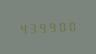four: (17, 21, 26, 35)
nine: (38, 20, 47, 34), (48, 20, 57, 33)
three: (27, 21, 36, 34)
zero: (68, 18, 77, 32), (58, 19, 67, 32)
